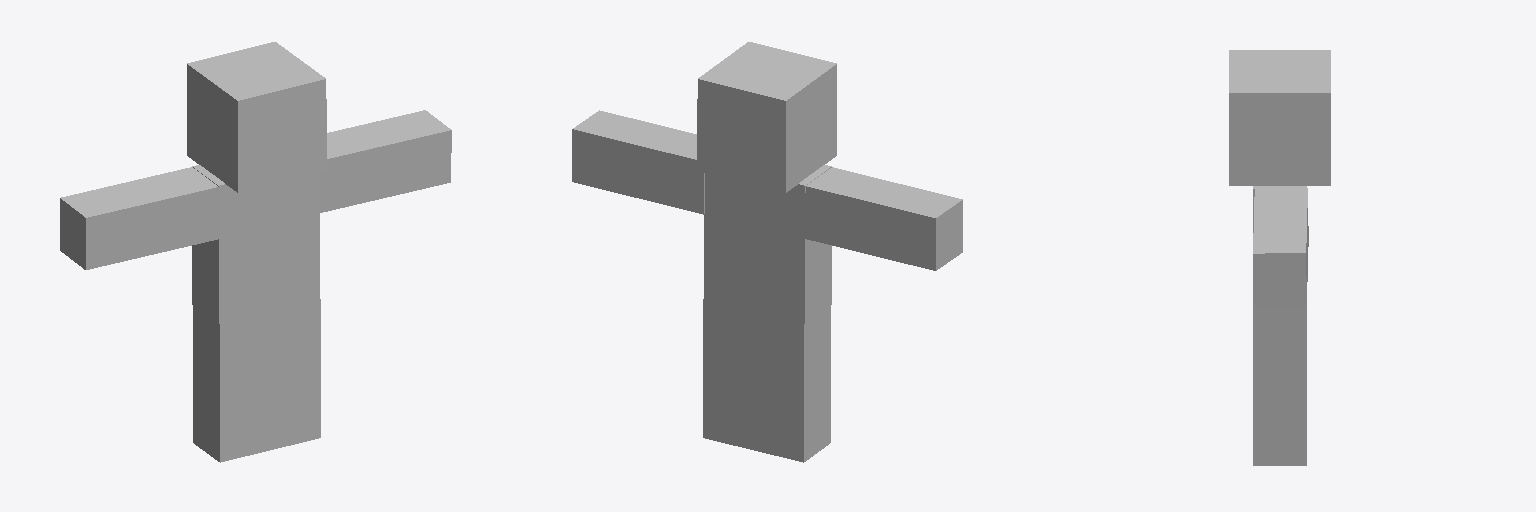
Rendered from skin.obj.
3 views of the same model, side by side, from view 1: azimuth 30°, elevation 25°; view 2: azimuth 150°, elevation 25°; view 3: azimuth 270°, elevation 25° (orthographic).
Parts seen in each view (by area): view 1: mesh01; view 2: mesh01; view 3: mesh01.
Boxes of the visible parts, x1=… form: mesh01: x1=60, y1=42, x2=451, y2=462; mesh01: x1=572, y1=42, x2=962, y2=462; mesh01: x1=1229, y1=50, x2=1330, y2=465.
Size of the model in its own units: 8.26 by 7.98 by 2.